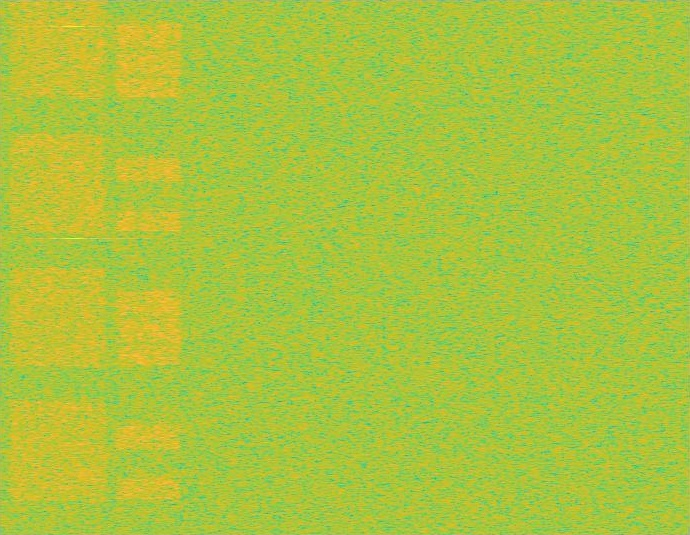5G: (7, 0, 110, 534)
LTE: (114, 0, 183, 534)
Radar: (67, 0, 81, 534)
